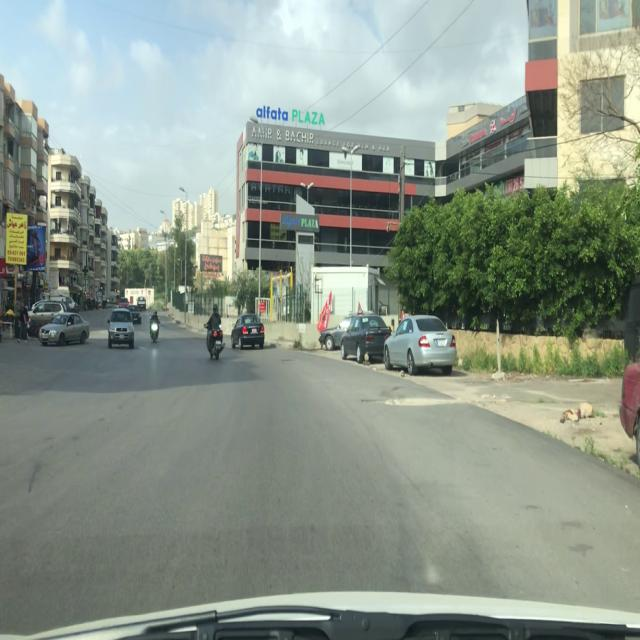Pothole: (361, 397, 457, 406), (280, 358, 298, 362)
